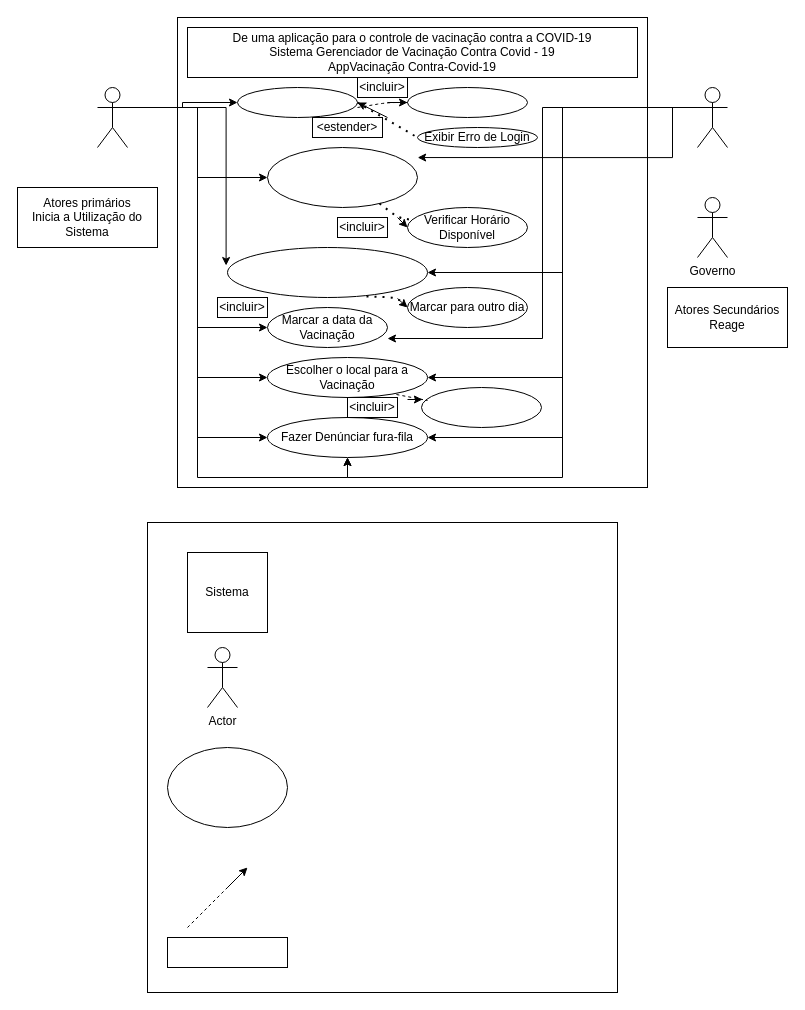
This 805x1010 diagram has some shape labels left out. Each missing label, with the centre of its shape:
"Casos de Uso Representa uma ação que realiza uma Tarefa dentro do Sistema" belongs at point 227,787.
"Enfermeiros" belongs at point 712,117.
"Escolher a data e horário para a sua Vacinação" belongs at point 342,177.
"Fazer seu Acompanhamento de Cronograma da Vacinação" belongs at point 327,272.
"Fazer seu Cadastrar" belongs at point 297,102.
"Pessoas (População)" belongs at point 112,117.
"Relacionamentos" belongs at point 227,952.
"Verificar Local Disponível" belongs at point 481,407.
"Verificar Senha" belongs at point 467,102.
